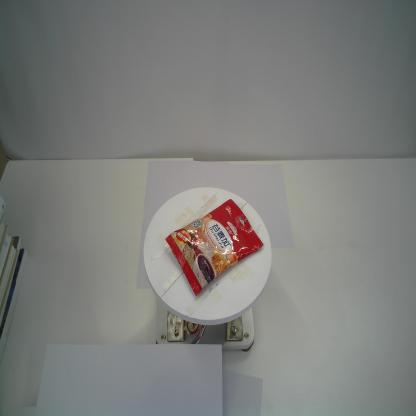Instant Drink: (165, 198, 264, 297)
